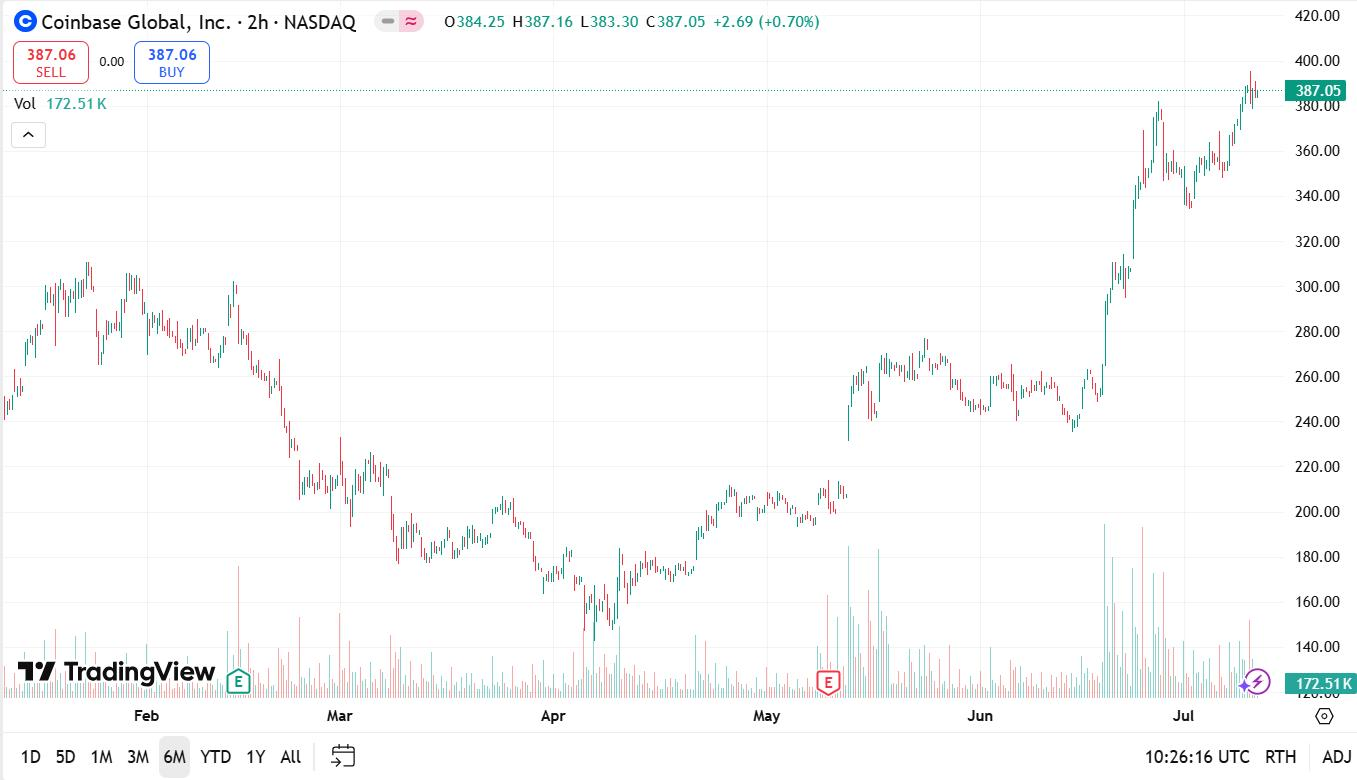Downtrend: (225, 249, 316, 533), (496, 479, 604, 650), (375, 455, 406, 577)
Sideways: (843, 326, 977, 466), (13, 258, 154, 376)
Uptrend: (1056, 85, 1163, 446), (610, 464, 810, 642)
